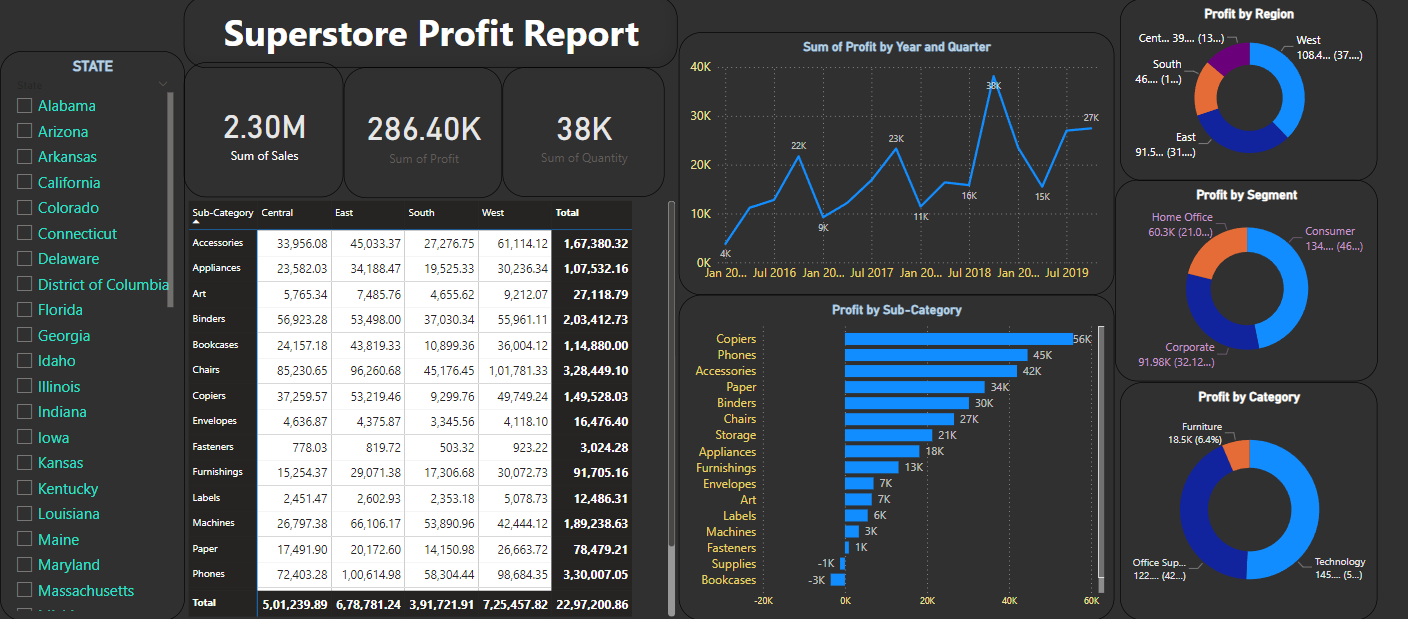

The page's visual inventory and layout, read from the dashboard file:
{"tool":"powerbi","page":{"name":"Profit","canvas":[1988,835],"ordinal":0},"visuals":[{"type":"textbox","box":[245.7,0,658.6,95.7],"z":0},{"type":"donutChart","title":" Profit by Category","fields":{"Y":["Sum(Orders.Profit)"],"Category":["Orders.Category"]},"box":[1494,514.9,343.3,317.9],"z":1000},{"type":"donutChart","title":"Profit by Segment","fields":{"Category":["Orders.Segment"],"Y":["Sum(Orders.Profit)"]},"box":[1487.1,245.7,350,268.6],"z":2000},{"type":"donutChart","title":" Profit by Region","fields":{"Y":["Sum(Orders.Profit)"],"Category":["Orders.Region"]},"box":[1494,3,343.3,243.3],"z":3000},{"type":"barChart","title":" Profit by Sub-Category","fields":{"Category":["Orders.Sub-Category"],"Y":["Sum(Orders.Profit)"]},"box":[904.5,398.5,580.6,434.3],"z":4000},{"type":"lineChart","fields":{"Category":["Orders.Order Date.Variation.Date Hierarchy.Year","Orders.Order Date.Variation.Date Hierarchy.Quarter"],"Y":["Sum(Orders.Profit)"]},"box":[904.5,47.8,580.6,350.7],"z":5000},{"type":"card","fields":{"Values":["Sum(Orders.Sales)"]},"box":[245.7,88.6,212.9,180],"z":6000},{"type":"slicer","title":"STATE","fields":{"Values":["Orders.State"]},"box":[0,73.1,246.3,759.7],"z":7000},{"type":"pivotTable","fields":{"Rows":["Orders.Sub-Category"],"Values":["Sum(Orders.Sales)"],"Columns":["Orders.Region"]},"box":[246.3,268.7,658.2,564.2],"z":8000},{"type":"card","fields":{"Values":["Sum(Orders.Quantity)"]},"box":[670,95.7,215.7,172.9],"z":9000},{"type":"card","fields":{"Values":["Sum(Orders.Profit)"]},"box":[458.6,95.7,211.4,174.3],"z":10000}]}

Visuals, with their boxes on the page's 1988x835 design canvas (x1, y1, x2, y2). These are canvas units, not pixel positions in the 1408x619 screenshot, which may show the page scaled, cropped or inside an application window:
textbox: x1=246, y1=0, x2=904, y2=96
" Profit by Category" donutChart: x1=1494, y1=515, x2=1837, y2=833
"Profit by Segment" donutChart: x1=1487, y1=246, x2=1837, y2=514
" Profit by Region" donutChart: x1=1494, y1=3, x2=1837, y2=246
" Profit by Sub-Category" barChart: x1=904, y1=398, x2=1485, y2=833
lineChart - Orders.Order Date.Variation.Date Hierarchy.Year x Orders.Order Date.Variation.Date Hierarchy.Quarter: x1=904, y1=48, x2=1485, y2=398
card - Sum(Orders.Sales): x1=246, y1=89, x2=459, y2=269
"STATE" slicer: x1=0, y1=73, x2=246, y2=833
pivotTable - Orders.Sub-Category x Sum(Orders.Sales): x1=246, y1=269, x2=904, y2=833
card - Sum(Orders.Quantity): x1=670, y1=96, x2=886, y2=269
card - Sum(Orders.Profit): x1=459, y1=96, x2=670, y2=270
